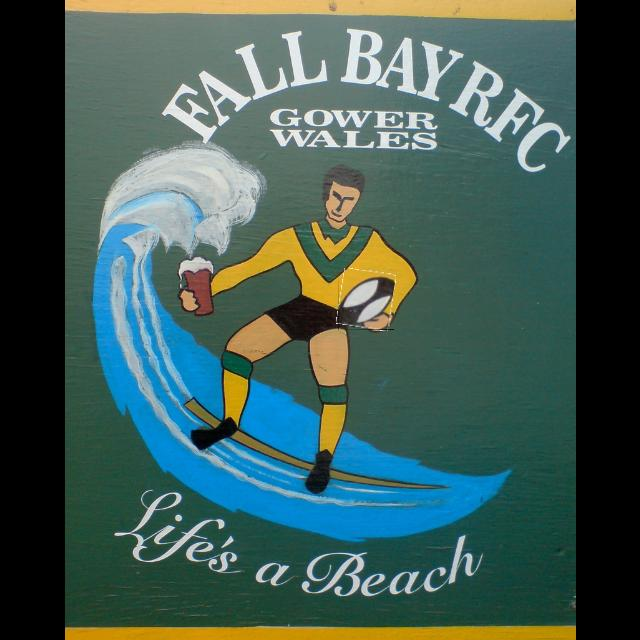Football: (338, 270, 394, 330)
